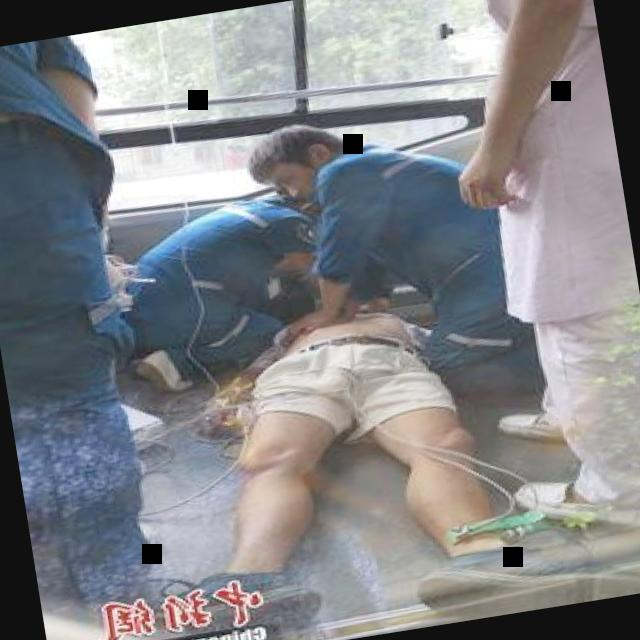Fall-Detected: (124, 251, 570, 640)
